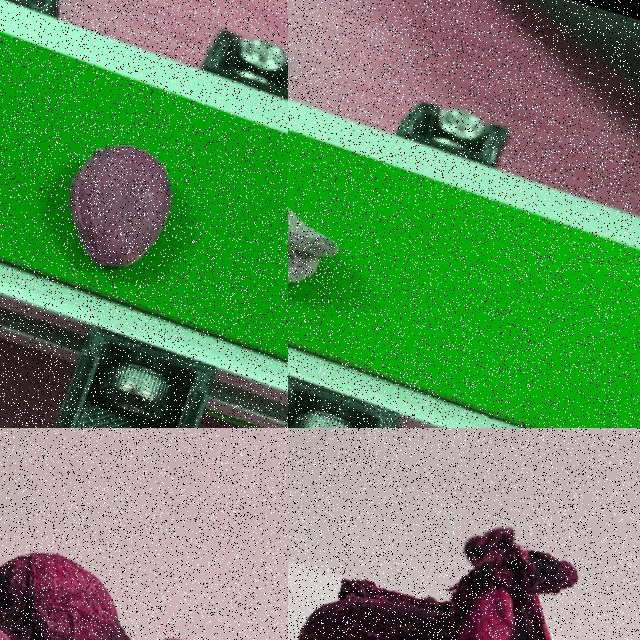Agglomerated_cocoabeans: (288, 432, 639, 639), (0, 440, 287, 639), (288, 146, 450, 358)
Fine_cocoabeans: (0, 77, 261, 323)
